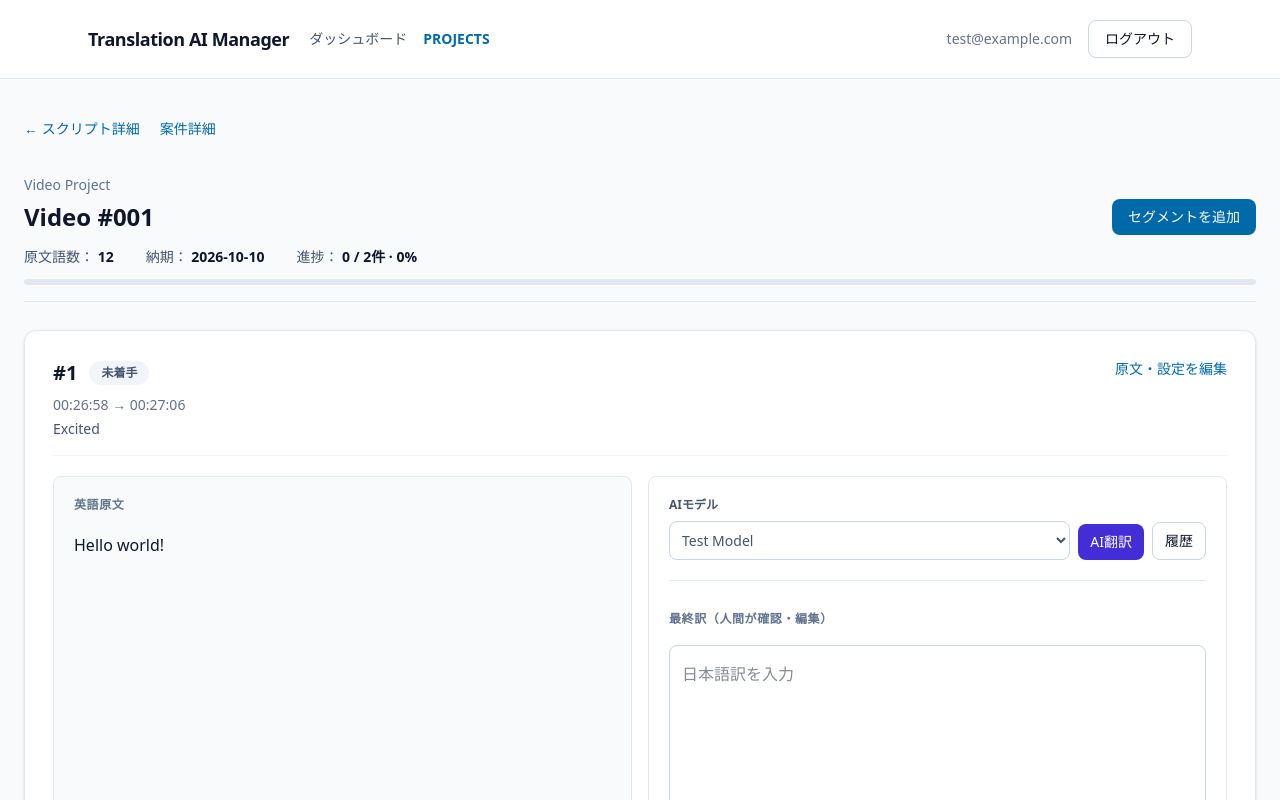
Test case: displays glossary history with 一致する用語はありませんでした。
What coordinates should you click on to do the following:
click the button "履歴"
I would click on:
 (1179, 541)
Its box is [1152,522,1206,560].
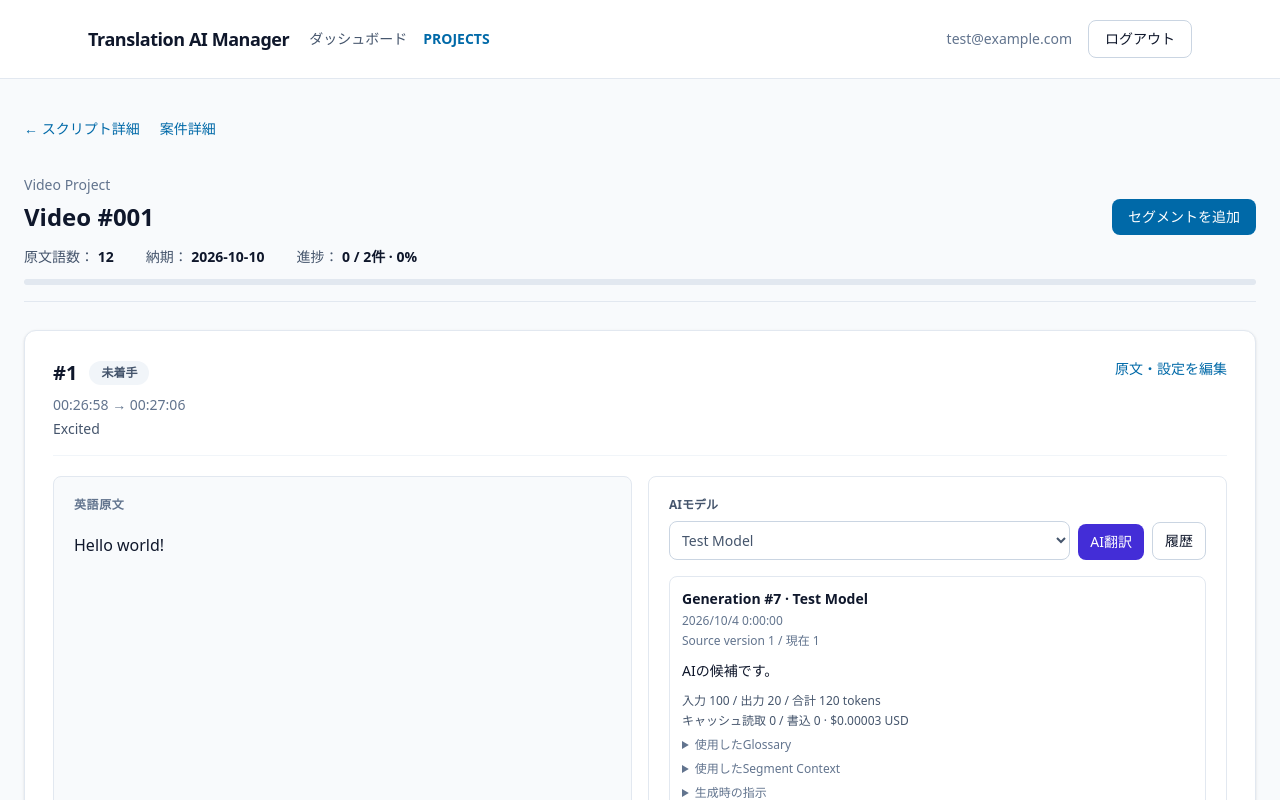
What coordinates should you click on to do the following:
click the heading "使用したGlossary"
I would click on:
 (743, 744)
Its box is [695,736,791,753].
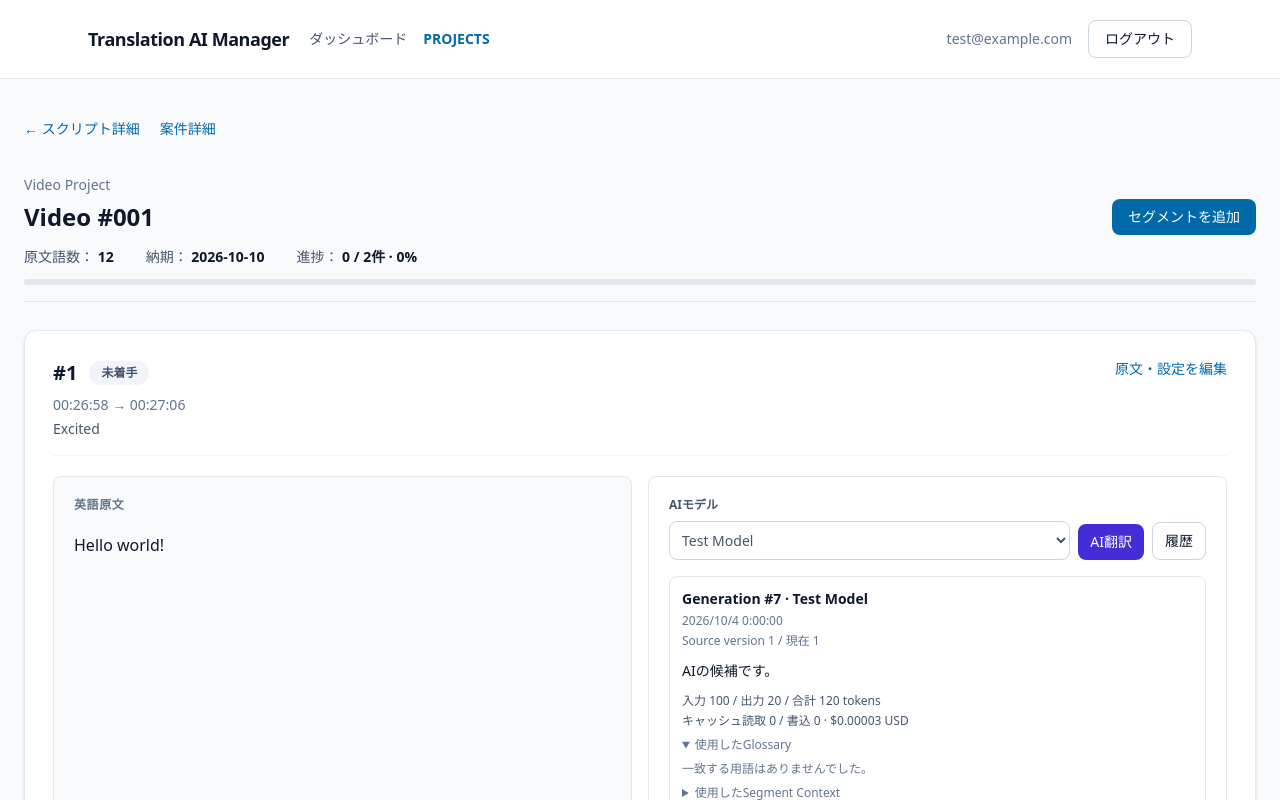
Expected: the text "一致する用語はありませんでした。" is shown, [682,760,873,777]
